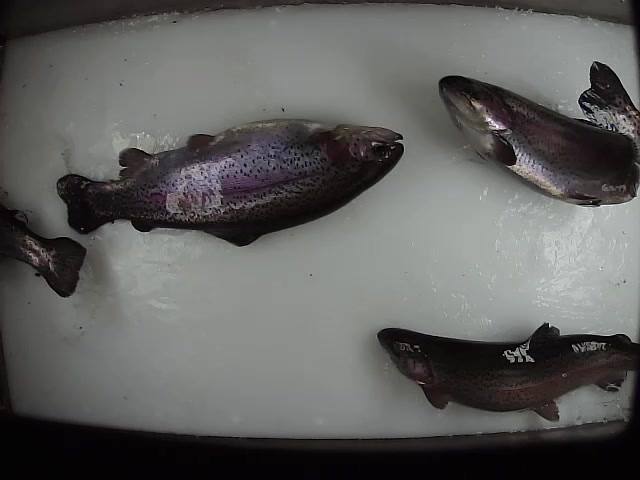fish: (54, 116, 406, 249), (434, 60, 640, 207), (374, 322, 640, 426)
